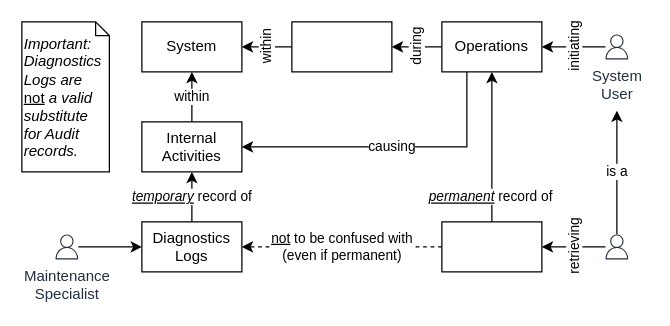
Image size: 670x326. Some labels were removed from this diagram. Here are the shapes that lost their labels. From the top down, the centre of each, then its label:
(x=341, y=46): Sessions
(x=491, y=246): Auditing
(x=616, y=246): Security Specialist
